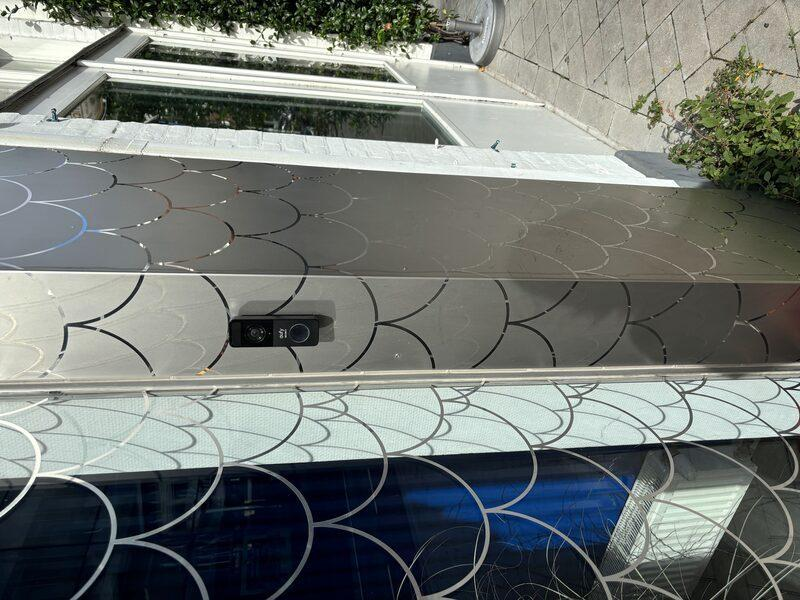doorbell: (246, 215, 290, 323)
